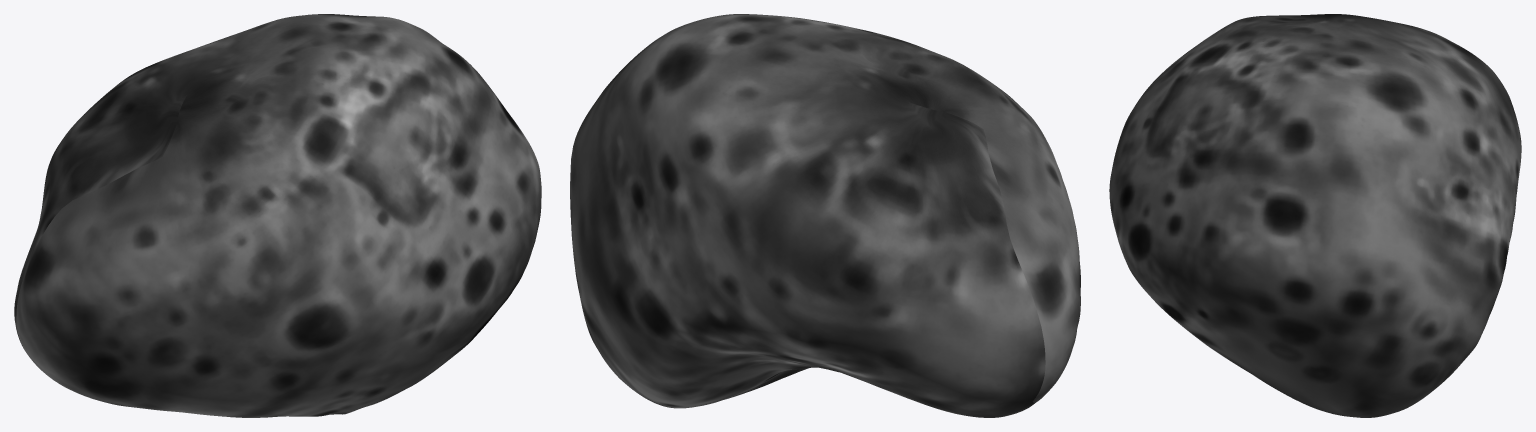
Rendered from deimos.obj.
The picture shows the model from 3 angles, left to right: view 1: azimuth 30°, elevation 25°; view 2: azimuth 150°, elevation 25°; view 3: azimuth 270°, elevation 25°; orthographic projection. The views are drawn at different scales.
Visible parts, largest first — view 1: deimos; view 2: deimos; view 3: deimos.
Part boxes in pixels (x1,y1,x2,y2): deimos: [14, 14, 541, 417]; deimos: [570, 14, 1080, 417]; deimos: [1109, 14, 1521, 417].
Size of the model in its own units: 0.6315 by 0.4407 by 0.5003.
Materials: 1 (1 with a texture image).
